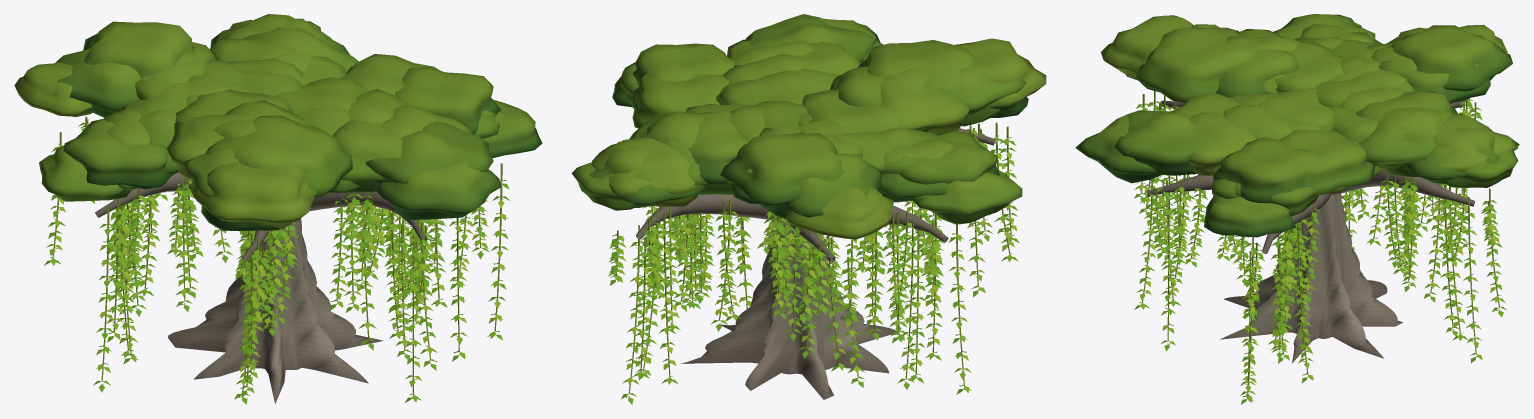
File: vinetree.glb
3 renders of one model, left to right at view 1: azimuth 30°, elevation 25°; view 2: azimuth 150°, elevation 25°; view 3: azimuth 270°, elevation 25°, orthographic. The views are drawn at different scales.
Parts seen in each view (by area): view 1: vinetree; view 2: vinetree; view 3: vinetree.
Boxes of the visible parts, x1,y1,x2,y2 form: vinetree: (14,14,542,404); vinetree: (571,14,1046,404); vinetree: (1075,14,1519,404).
Size of the model in its own units: 52.4 by 33.12 by 49.8.
